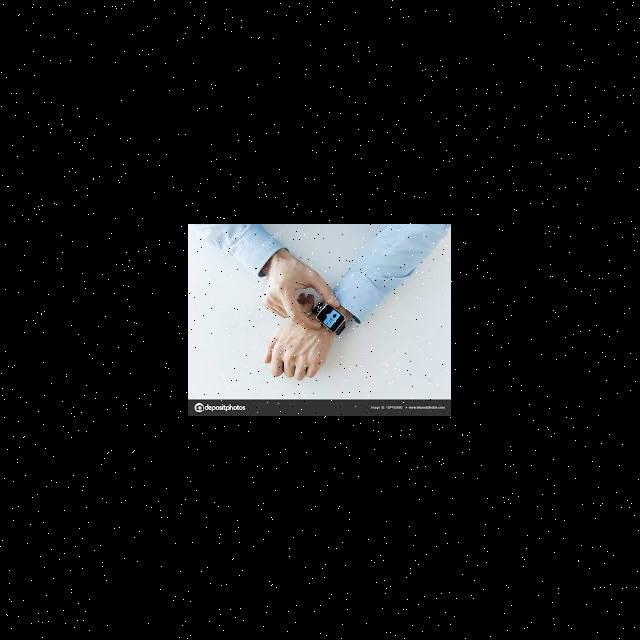watch: (303, 272, 372, 344)
